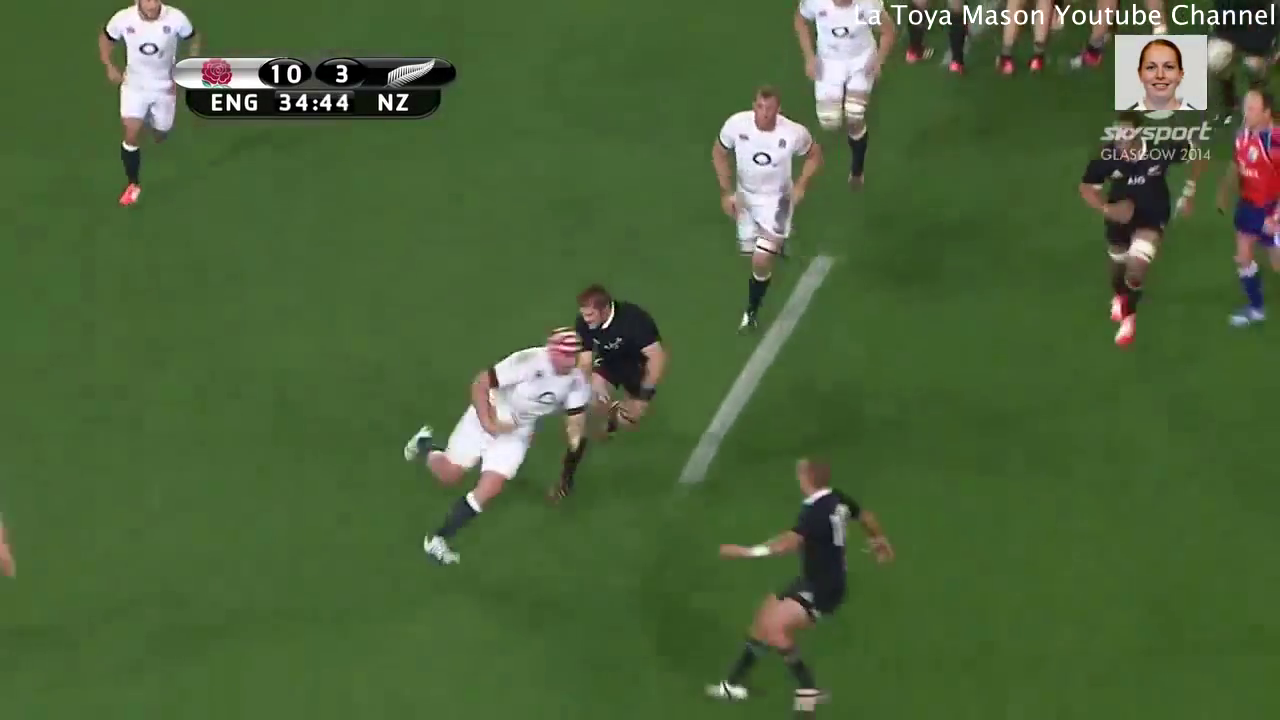ball: (470, 371, 533, 443)
player: (689, 454, 901, 720), (395, 316, 602, 584), (695, 84, 813, 343), (541, 270, 669, 505), (1073, 113, 1186, 358), (86, 1, 209, 207), (793, 1, 905, 199), (1211, 81, 1280, 339)
